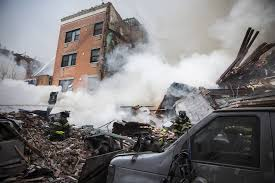smoke: (219, 3, 262, 69), (118, 61, 161, 106), (67, 92, 119, 125), (164, 62, 219, 87)
